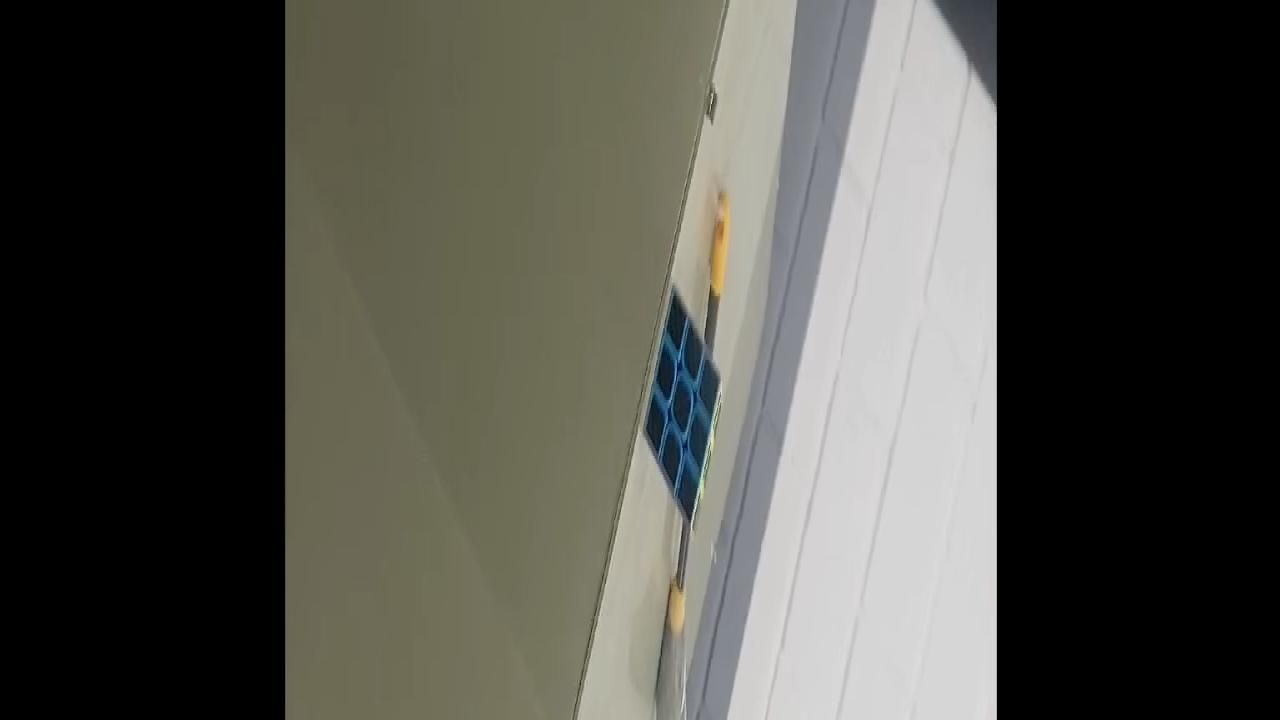Cube: (640, 276, 726, 550)
